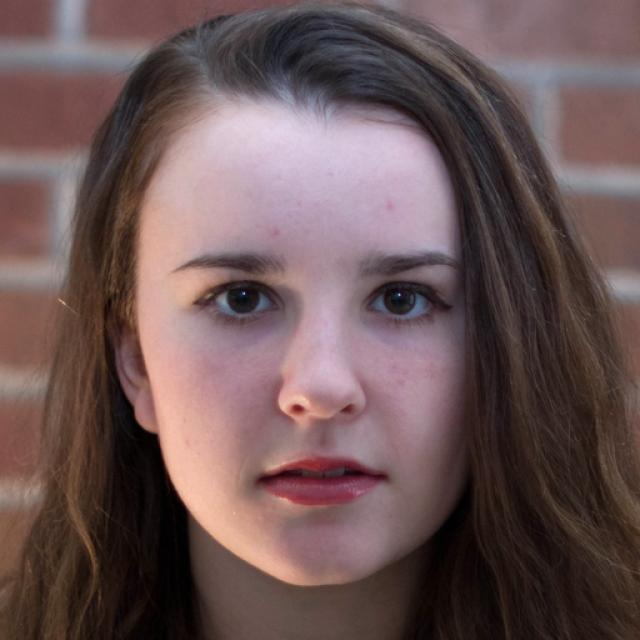neutral: (144, 88, 482, 586)
